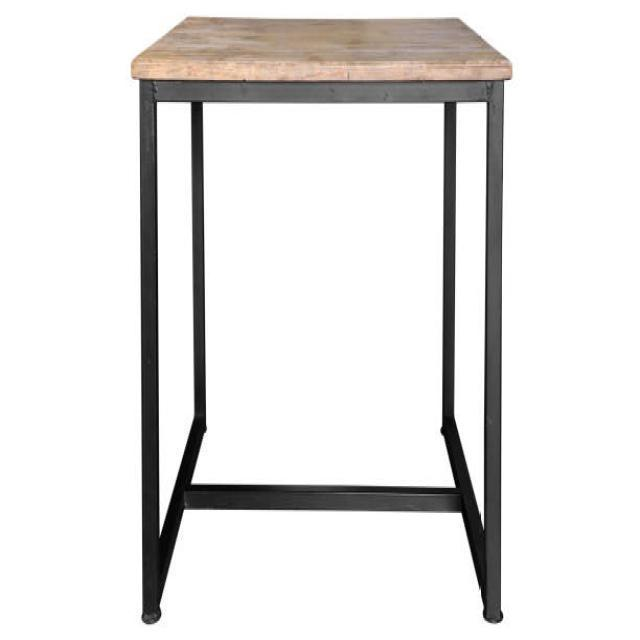table: (130, 14, 512, 624)
